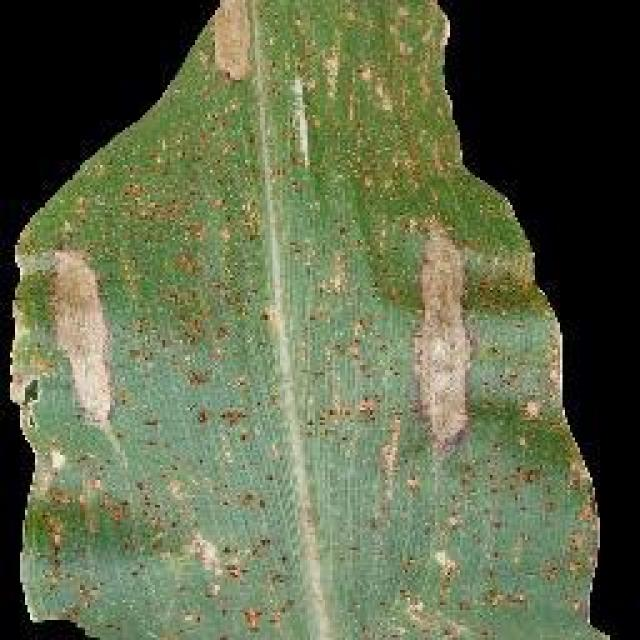Corn Common Rust: (82, 67, 558, 613)
